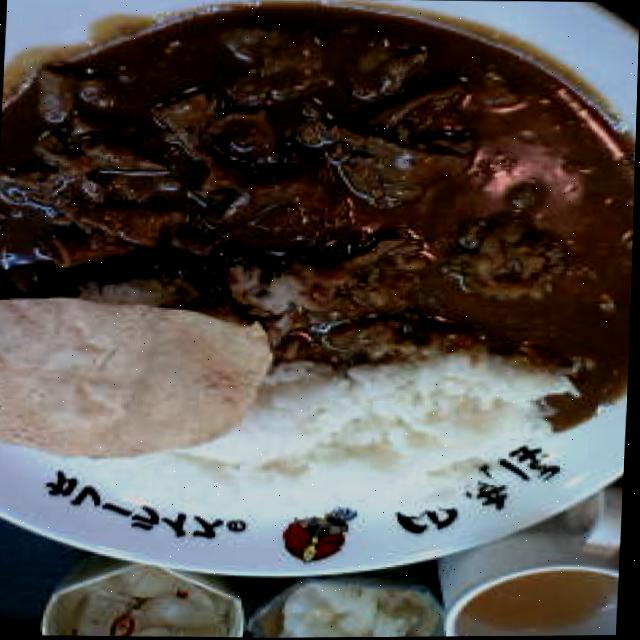牛肉菜式: (0, 0, 640, 578)
